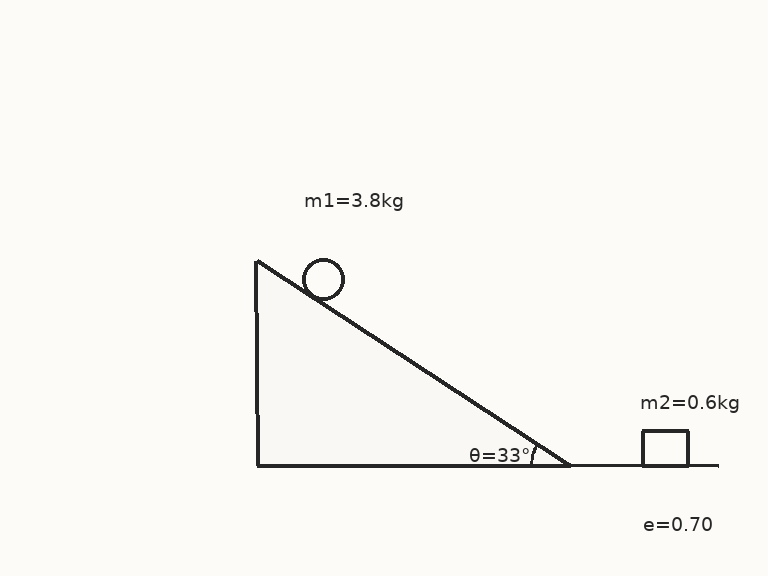ball: (300, 256, 346, 302)
block: (640, 429, 690, 467)
ramp: (254, 259, 573, 467)
